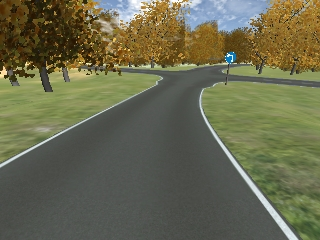left: (224, 52, 237, 64)
